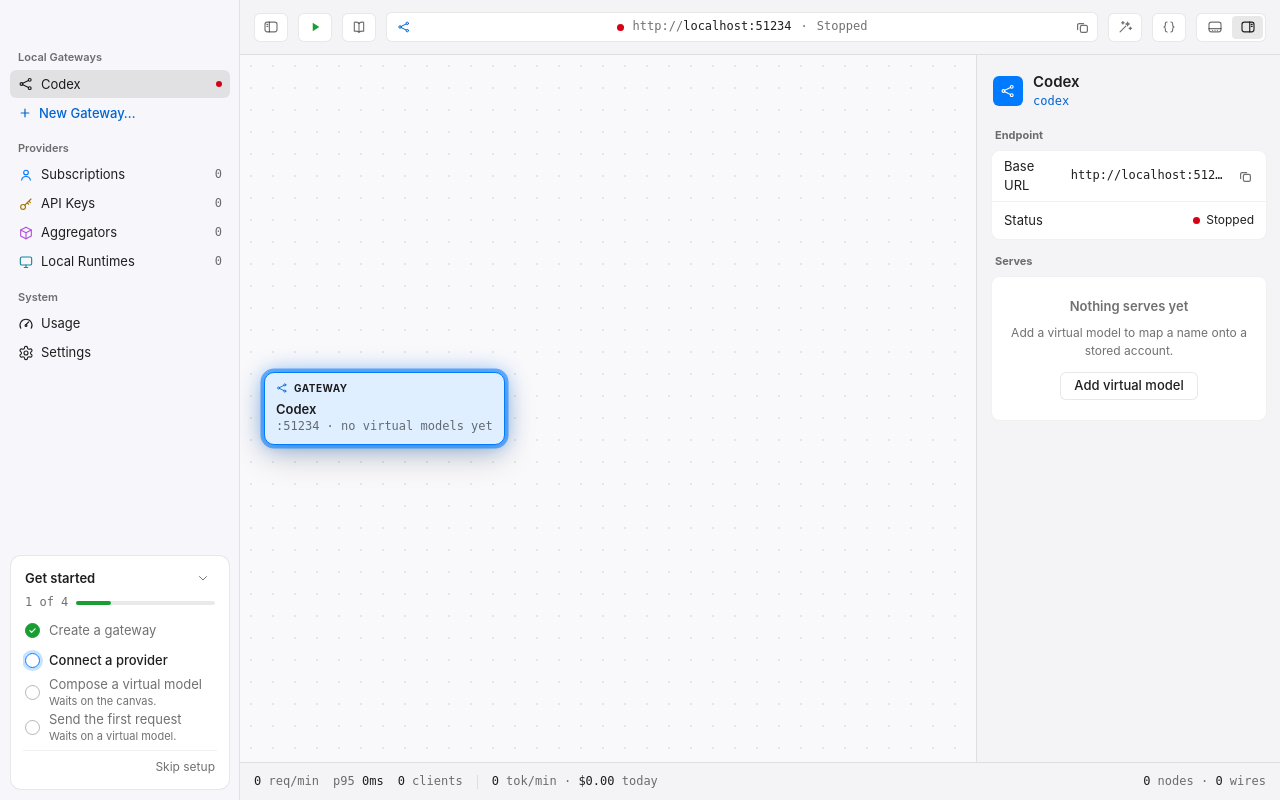
Test: the way out of the empty target reaches the screen that connects one
This screenshot has width=1280, height=800.
Click the button "Add virtual model": (1129, 386) [1060,372,1198,400]
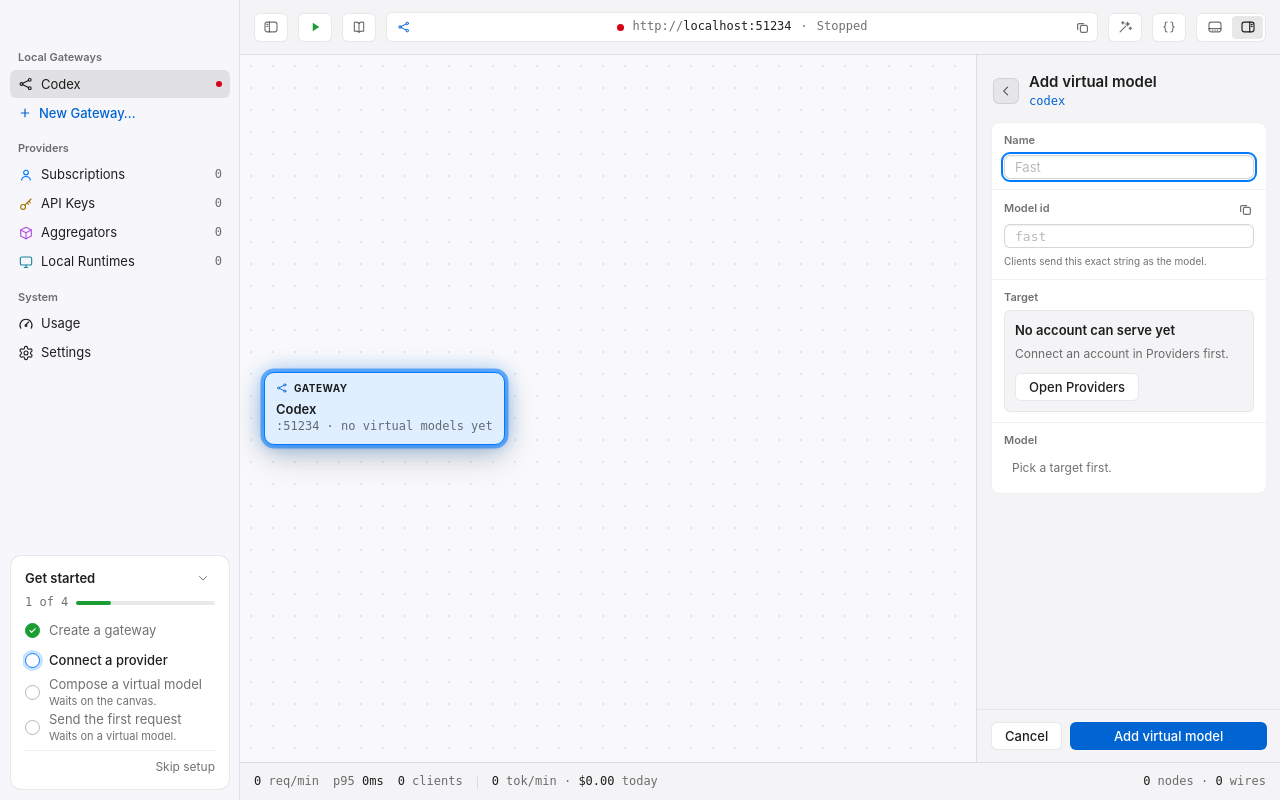
Click the link "Open Providers": (1077, 387) [1015,373,1139,401]
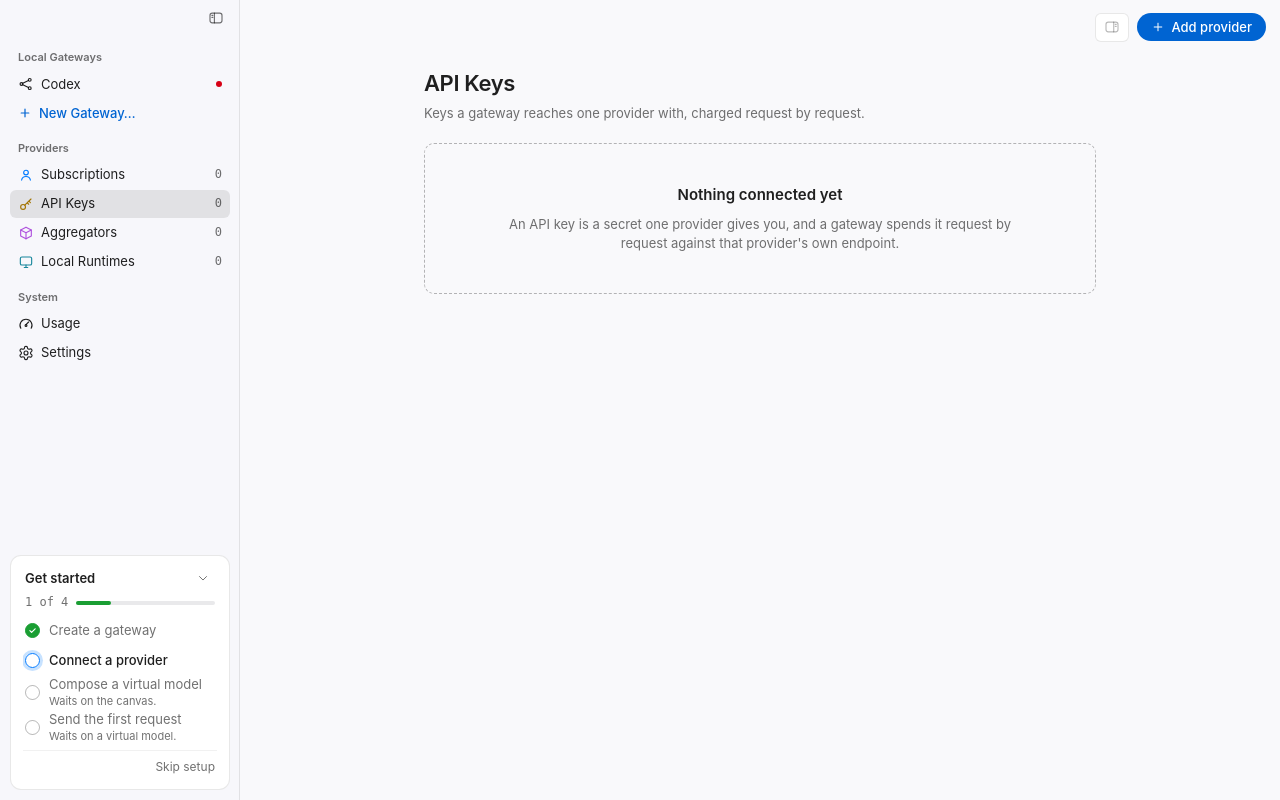
expect the heading "API Keys" is shown: met, box [424,70,515,96]
